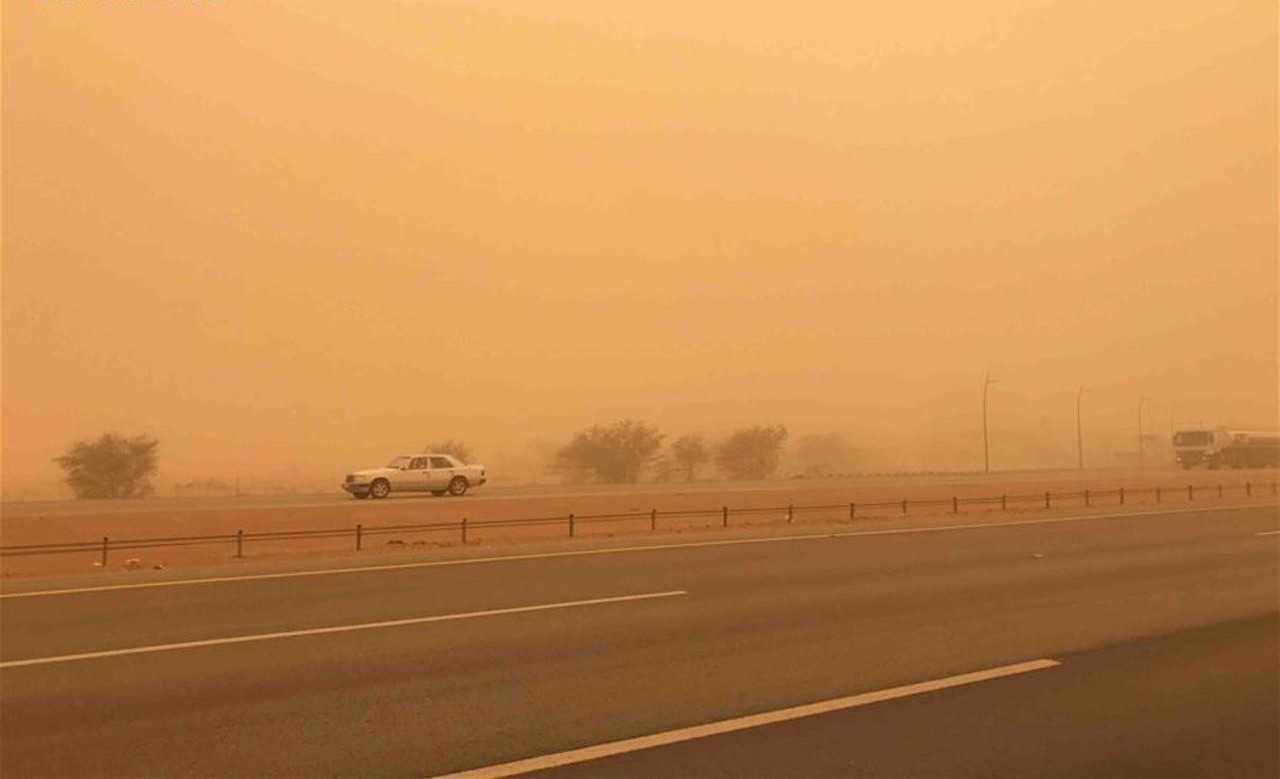car: (342, 452, 489, 500)
truck: (1173, 419, 1279, 467)
